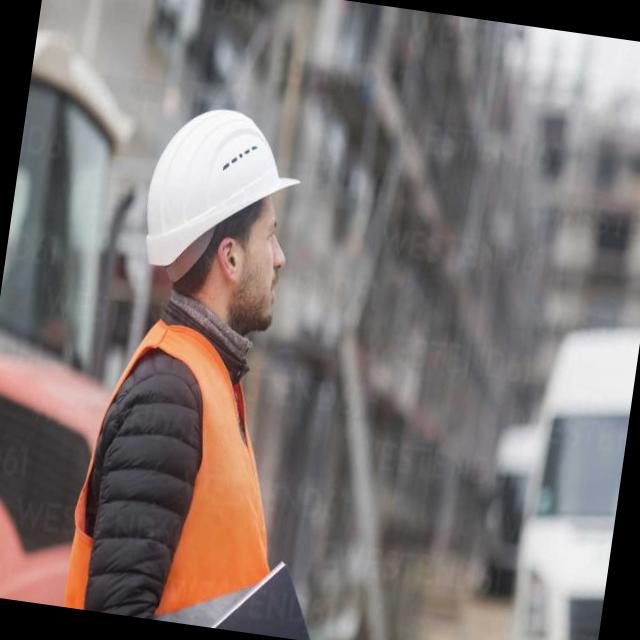Helmet: (133, 92, 314, 286)
Vest: (60, 310, 312, 636)
